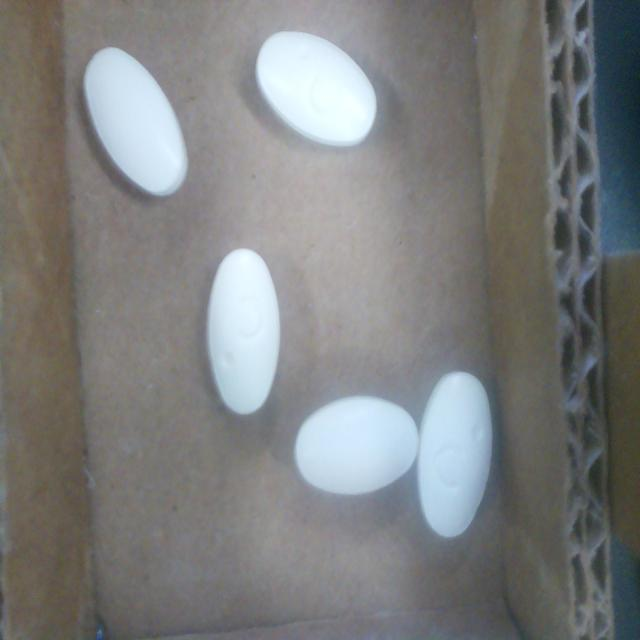pill: (83, 47, 188, 196), (256, 31, 377, 147), (417, 372, 492, 538), (294, 396, 419, 495), (206, 249, 280, 415)
